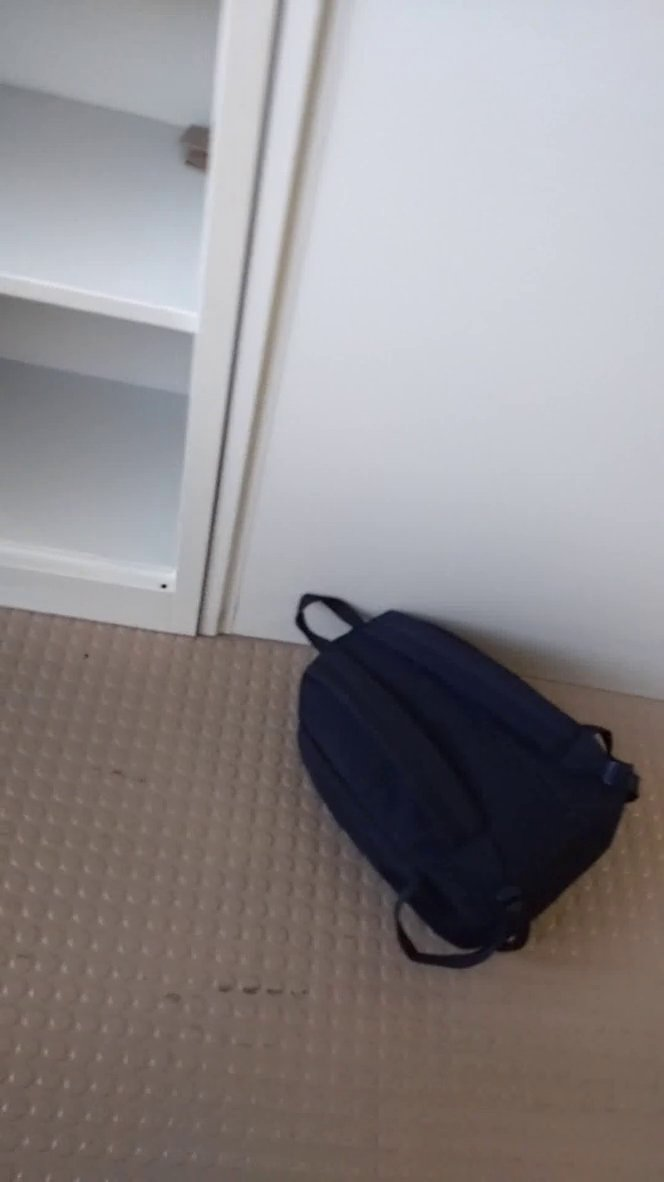bag: (275, 580, 654, 986)
